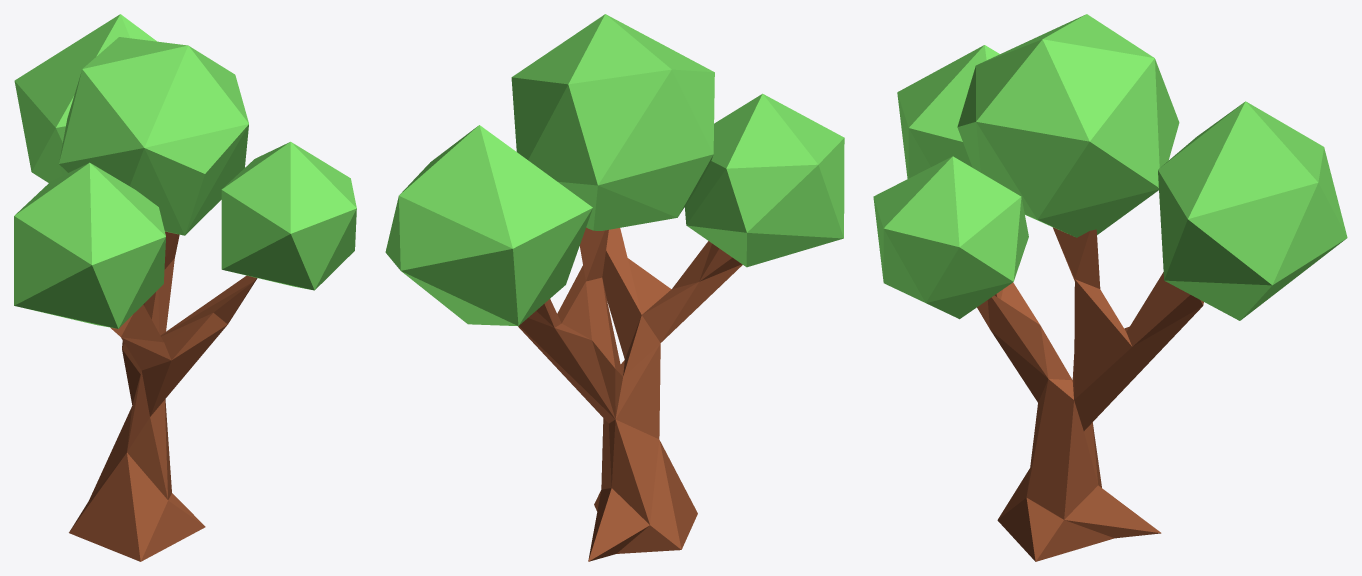
File: Tree_LOD2.fbx
3 views of the same model, side by side, from view 1: azimuth 30°, elevation 25°; view 2: azimuth 150°, elevation 25°; view 3: azimuth 270°, elevation 25° (orthographic). The views are drawn at different scales.
Parts seen in each view (by area): view 1: SM_Tree_LOD2; view 2: SM_Tree_LOD2; view 3: SM_Tree_LOD2.
Part boxes in pixels (box(x1,y1,x2,y2)): SM_Tree_LOD2: box(14, 14, 356, 561); SM_Tree_LOD2: box(385, 14, 844, 561); SM_Tree_LOD2: box(873, 14, 1347, 561).
Size of the model in its own units: 386 by 553 by 455.
